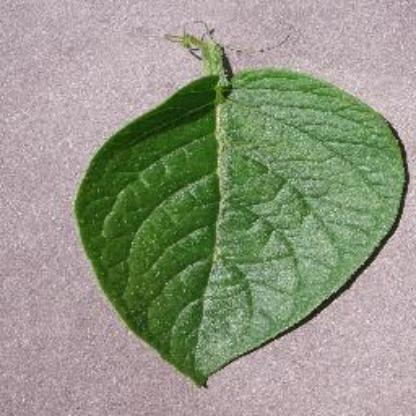Healthy-plant: (69, 22, 411, 386)
